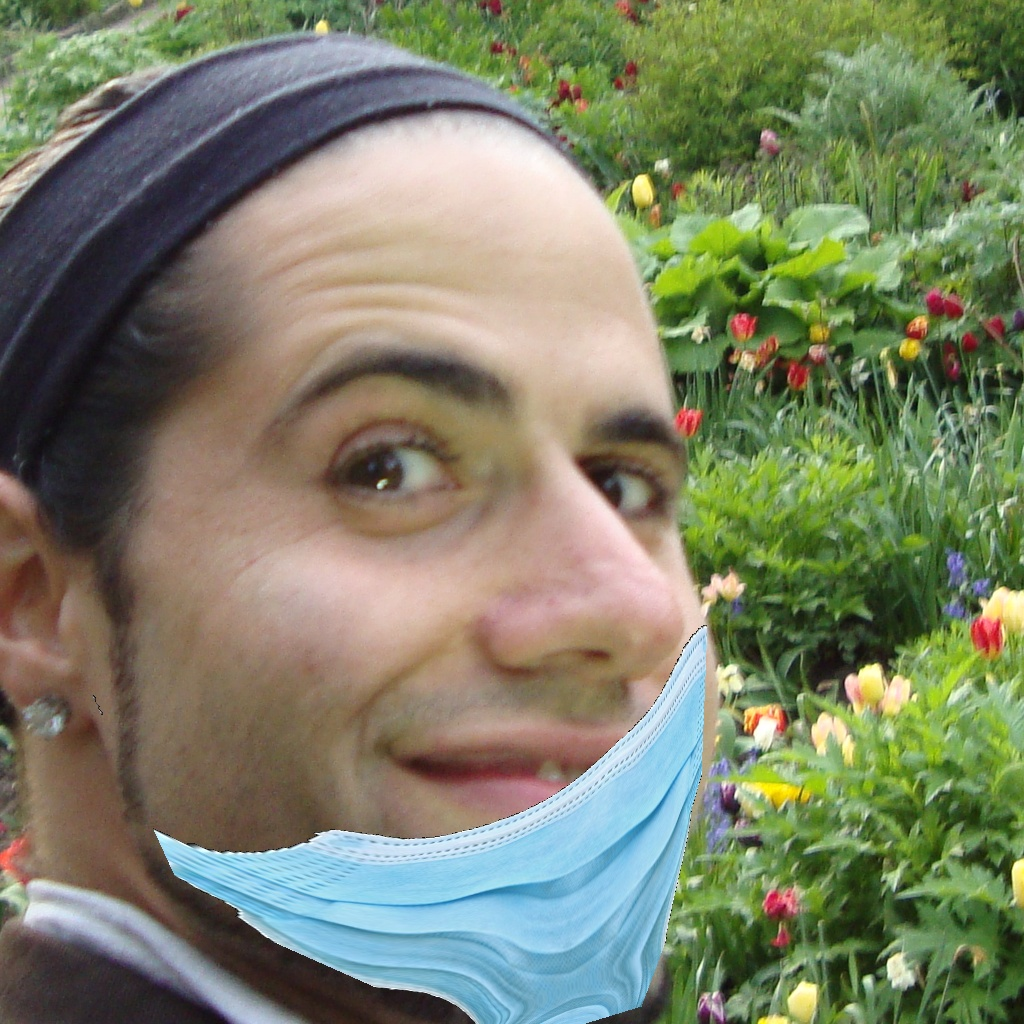mascarilla_mal_puesta: (94, 385, 792, 1018)
